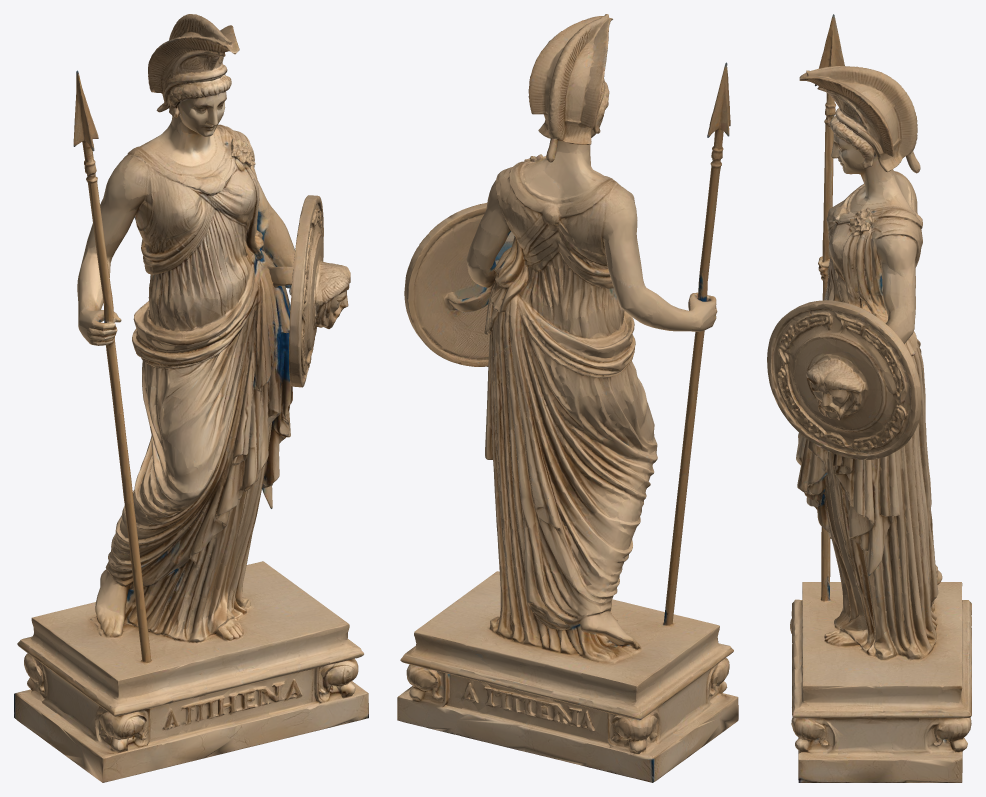
File: statue__athena-spear-shield.glb
3 renders of one model, left to right at view 1: azimuth 30°, elevation 25°; view 2: azimuth 150°, elevation 25°; view 3: azimuth 270°, elevation 25°, orthographic. The views are drawn at different scales.
Size of the model in its own units: 0.8215 by 1.9 by 0.5377.
1 material, 1 textured.
